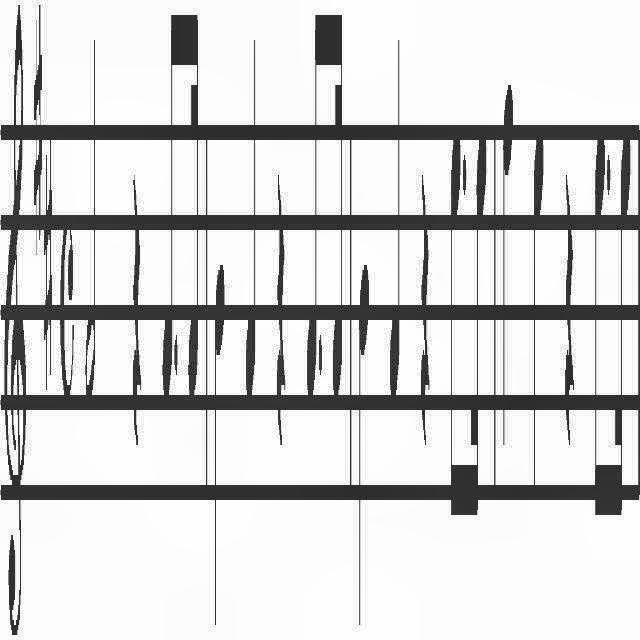Bass-clef: (4, 0, 28, 640)
Diez: (43, 124, 53, 390), (34, 0, 42, 268)
Eighth-note: (448, 132, 462, 532), (162, 0, 174, 414), (594, 124, 606, 536), (306, 0, 318, 404)
Half-note: (84, 21, 96, 425)
Quarter-note: (245, 17, 257, 407), (502, 75, 514, 465), (213, 253, 225, 639), (389, 29, 401, 411), (532, 128, 544, 496), (358, 249, 368, 639)
Quarter-rest: (418, 170, 432, 450), (131, 168, 141, 476), (564, 178, 574, 468), (276, 160, 284, 454)
Sixteenth-note: (469, 121, 486, 543), (615, 125, 631, 557), (188, 0, 200, 418), (331, 2, 343, 418)
